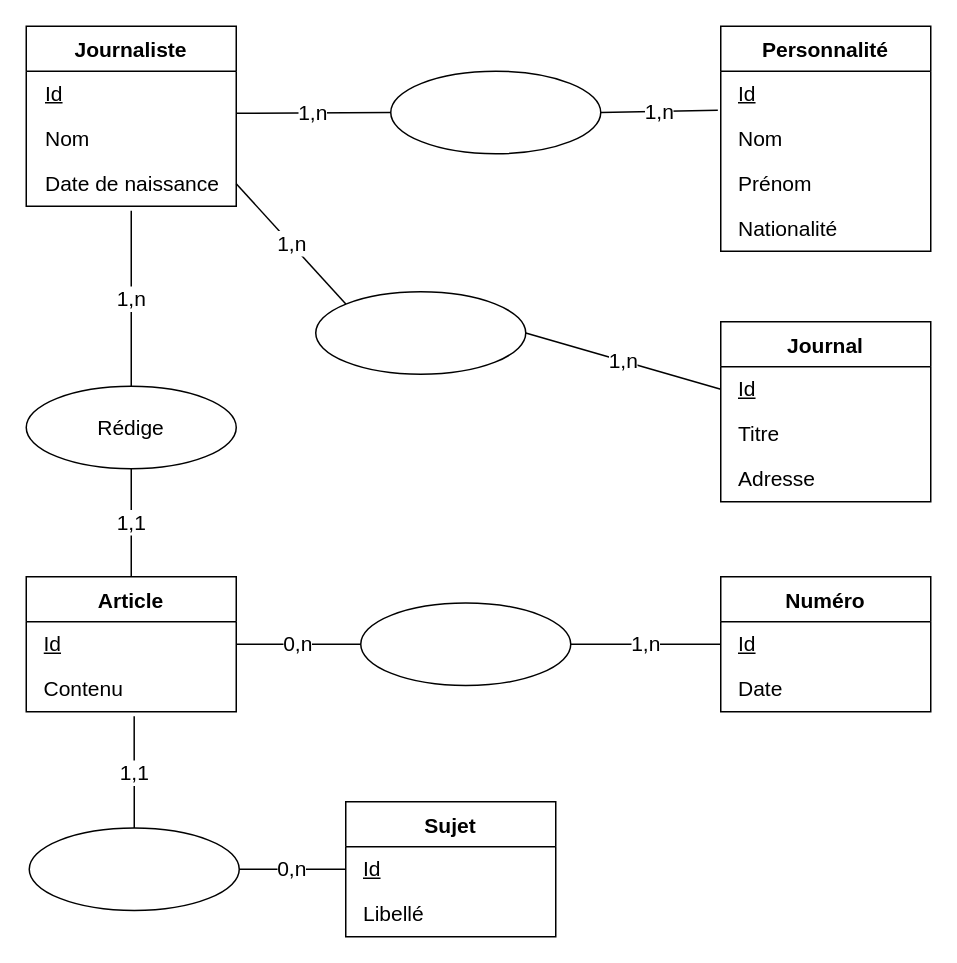
This 957x963 diagram has some shape labels left out. The centre of each missing label's shape, as x and y in pixels:
"A travaillé pour" goes at (420,332).
"Interview" goes at (495,112).
"Parait dans" goes at (465,644).
"Relatif à" goes at (133,868).
